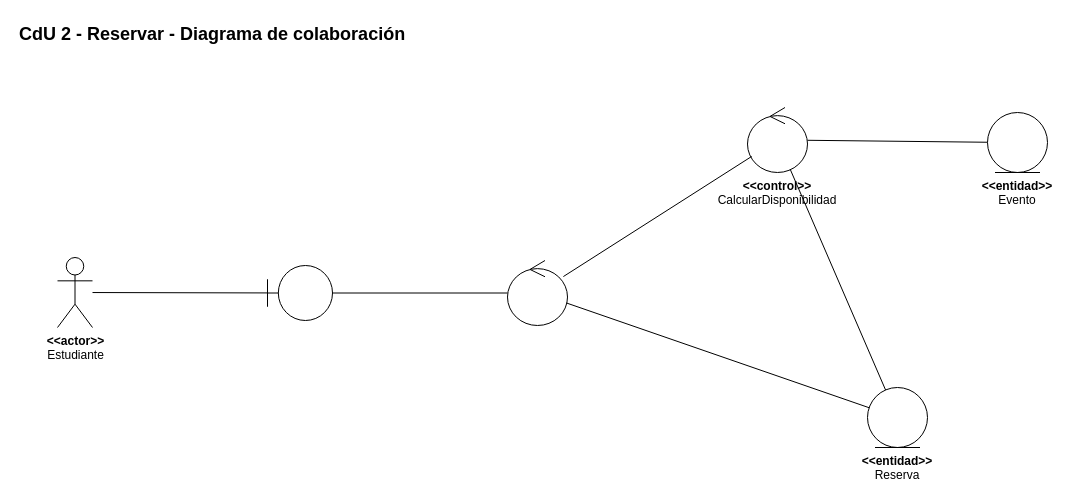
Some shapes in this 1070 by 500 pixel diagram are drawn without their labels. The centre of each missing label's shape, as x and y in pixels:
<<control>> GestiónReserva: the point at 537,293
<<límite>> PantallaEventos: the point at 299,292
